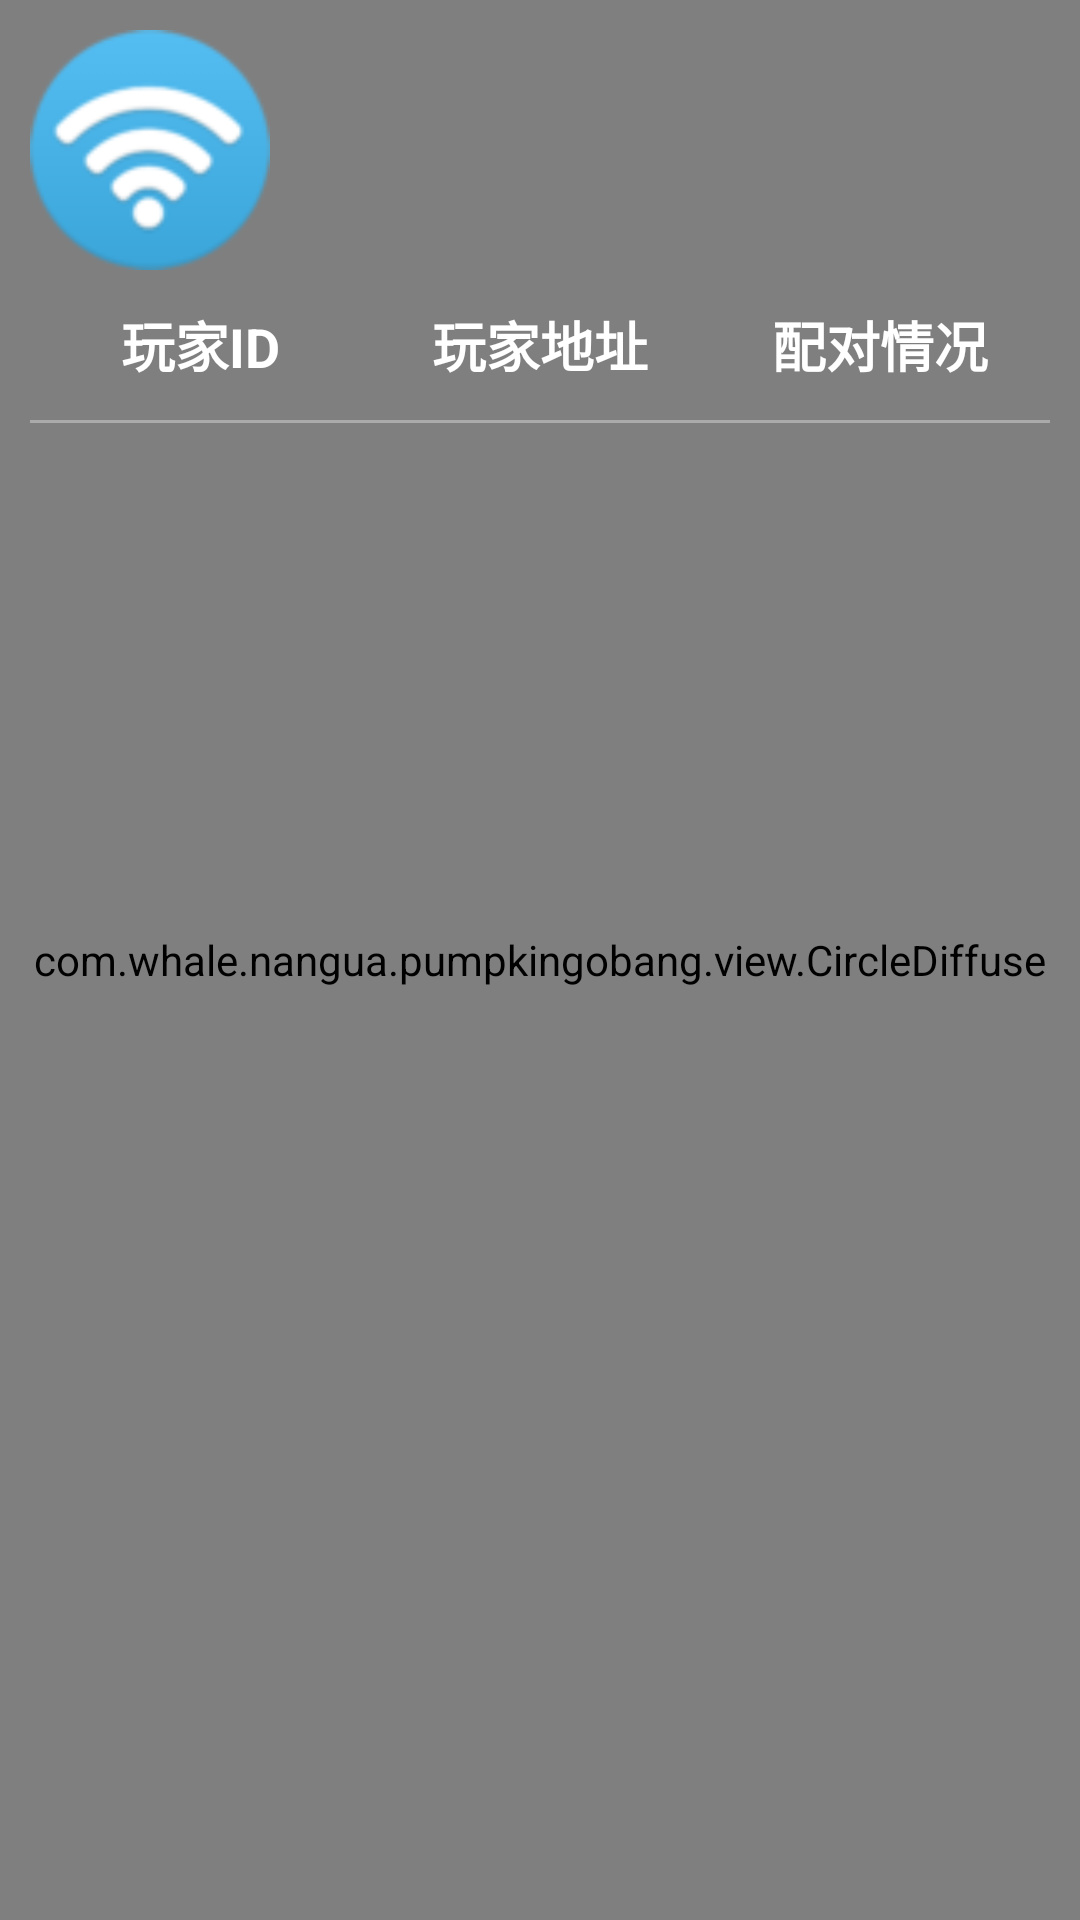

Point at icon controls on the screen. Image size 1080 x 1920, points as (x,y).
wifisaomiaobtn: (150,150)
